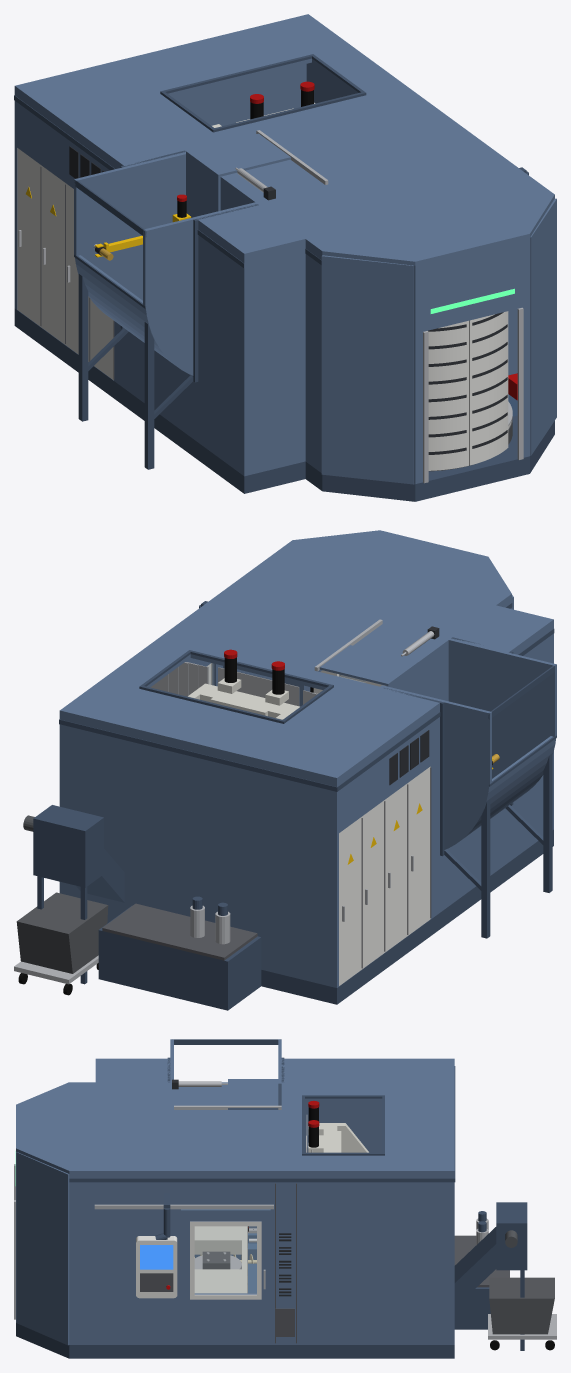
The model's file is clock1000evo_fms_4ax_blue.glb.
3 renders of one model, top to bottom at view 1: azimuth 30°, elevation 25°; view 2: azimuth 150°, elevation 25°; view 3: azimuth 270°, elevation 25°, orthographic. The views are drawn at different scales.
Visible parts, largest first — view 1: enclosure__mcm_blue, apc_housing__mcm_blue, tc_box__mcm_blue, electrical_cabinet__evo_white, enclosure__mcm_blue_dk, apc_housing__mcm_blue_dk, apc_door_left__evo_white, apc_door_right__evo_white, tc_box__mcm_blue_dk, tc_door__mcm_blue, apc_housing__steel, apc_door_left__anthracite (+4 smaller); view 2: enclosure__mcm_blue, tc_box__mcm_blue, chip_coolant__mcm_blue_dk, electrical_cabinet__evo_white, enclosure__mcm_blue_dk, apc_housing__mcm_blue, chip_cart__steel_dark, tc_box__mcm_blue_dk, chip_coolant__anthracite_lt, tc_door__mcm_blue, column__struct_grey, electrical_cabinet__anthracite_lt (+6 smaller); view 3: enclosure__mcm_blue, apc_housing__mcm_blue, enclosure__mcm_blue_dk, chip_coolant__mcm_blue_dk, operator_door__glass_clear, operator_door__mcm_blue, chip_cart__steel_dark, table__struct_grey, enclosure__steel, operator_door__evo_white, tc_door__mcm_blue, column__struct_grey (+12 smaller).
Part boxes in pixels (bbox=[...]): enclosure__mcm_blue: bbox=[14, 14, 537, 476]; apc_housing__mcm_blue: bbox=[305, 182, 556, 484]; tc_box__mcm_blue: bbox=[74, 152, 257, 375]; electrical_cabinet__evo_white: bbox=[17, 148, 113, 380]; enclosure__mcm_blue_dk: bbox=[14, 54, 366, 493]; apc_housing__mcm_blue_dk: bbox=[305, 248, 554, 501]; apc_door_left__evo_white: bbox=[428, 320, 468, 470]; apc_door_right__evo_white: bbox=[469, 311, 508, 465]; tc_box__mcm_blue_dk: bbox=[74, 179, 193, 469]; tc_door__mcm_blue: bbox=[186, 133, 290, 217]; apc_housing__steel: bbox=[423, 307, 523, 483]; apc_door_left__anthracite: bbox=[428, 324, 466, 454]; enclosure__mcm_blue: bbox=[59, 552, 553, 987]; tc_box__mcm_blue: bbox=[384, 638, 556, 849]; chip_coolant__mcm_blue_dk: bbox=[33, 805, 261, 1010]; electrical_cabinet__evo_white: bbox=[339, 766, 430, 985]; enclosure__mcm_blue_dk: bbox=[59, 628, 554, 1004]; apc_housing__mcm_blue: bbox=[277, 530, 513, 691]; chip_cart__steel_dark: bbox=[16, 892, 108, 973]; tc_box__mcm_blue_dk: bbox=[444, 665, 556, 938]; chip_coolant__anthracite_lt: bbox=[102, 903, 257, 960]; tc_door__mcm_blue: bbox=[319, 645, 418, 693]; column__struct_grey: bbox=[188, 678, 299, 719]; electrical_cabinet__anthracite_lt: bbox=[361, 767, 431, 968]; enclosure__mcm_blue: bbox=[95, 1058, 454, 1344]; apc_housing__mcm_blue: bbox=[16, 1082, 95, 1345]; enclosure__mcm_blue_dk: bbox=[95, 1057, 455, 1358]; chip_coolant__mcm_blue_dk: bbox=[454, 1202, 527, 1350]; operator_door__glass_clear: bbox=[195, 1227, 256, 1293]; operator_door__mcm_blue: bbox=[181, 1209, 270, 1310]; chip_cart__steel_dark: bbox=[489, 1277, 554, 1334]; table__struct_grey: bbox=[194, 1226, 247, 1293]; enclosure__steel: bbox=[94, 1081, 281, 1209]; operator_door__evo_white: bbox=[190, 1221, 261, 1299]; tc_door__mcm_blue: bbox=[228, 1079, 278, 1109]; column__struct_grey: bbox=[308, 1123, 368, 1152].
Bounding box in the file's own units: 5.04 × 3.22 × 7.86.
